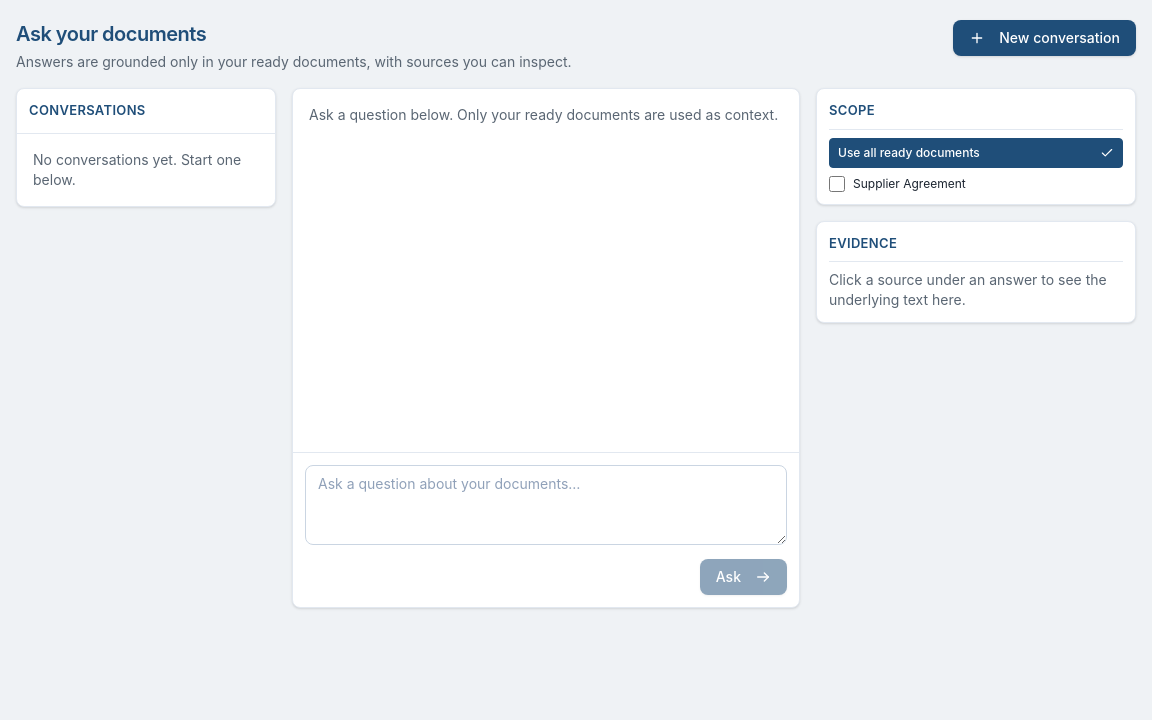
Test: Chat screen -- answer, sources and errors (US-014-3) › AC-053: an inline citation marker in the body is clickable and opens the Evidence panel
Expected: the text "Supplier Agreement" is shown, [853,176,966,190]
Type "When does it renew?" into the text box labelled "Ask a question".
click(546, 505); type("When does it renew?")  # box [305,465,787,545]
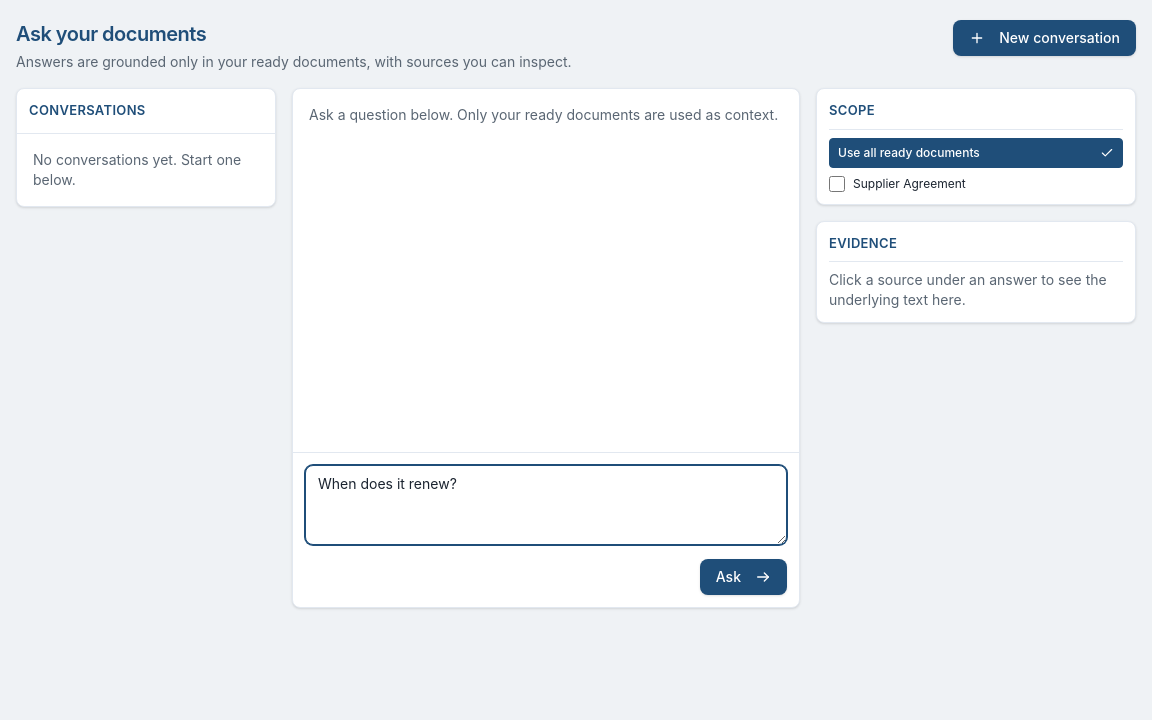
Click the button "Ask".
click(743, 577)  # box [700,559,787,595]
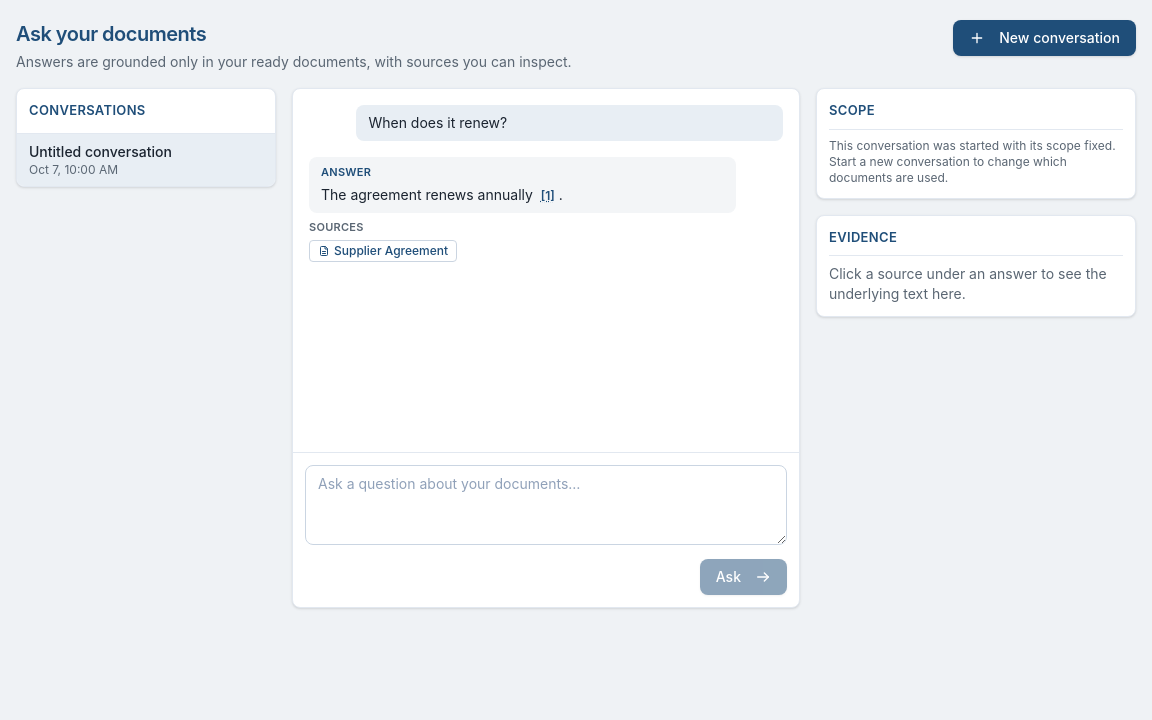
Result: the heading "Answer" is shown at [321,165,371,179]
Click the button named "View source 1: Supplier Agreement".
click(548, 196)  # box [539,188,557,204]
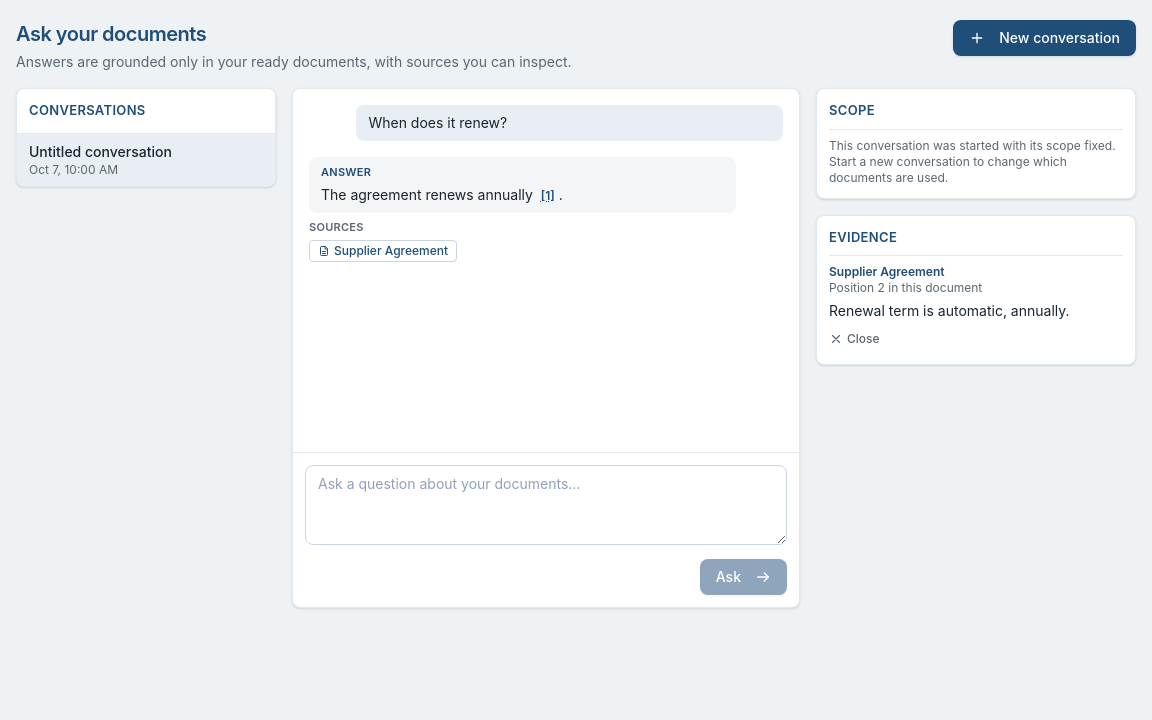
Result: the text "Renewal term is automatic, annually." is shown at [829,302,1070,319]
